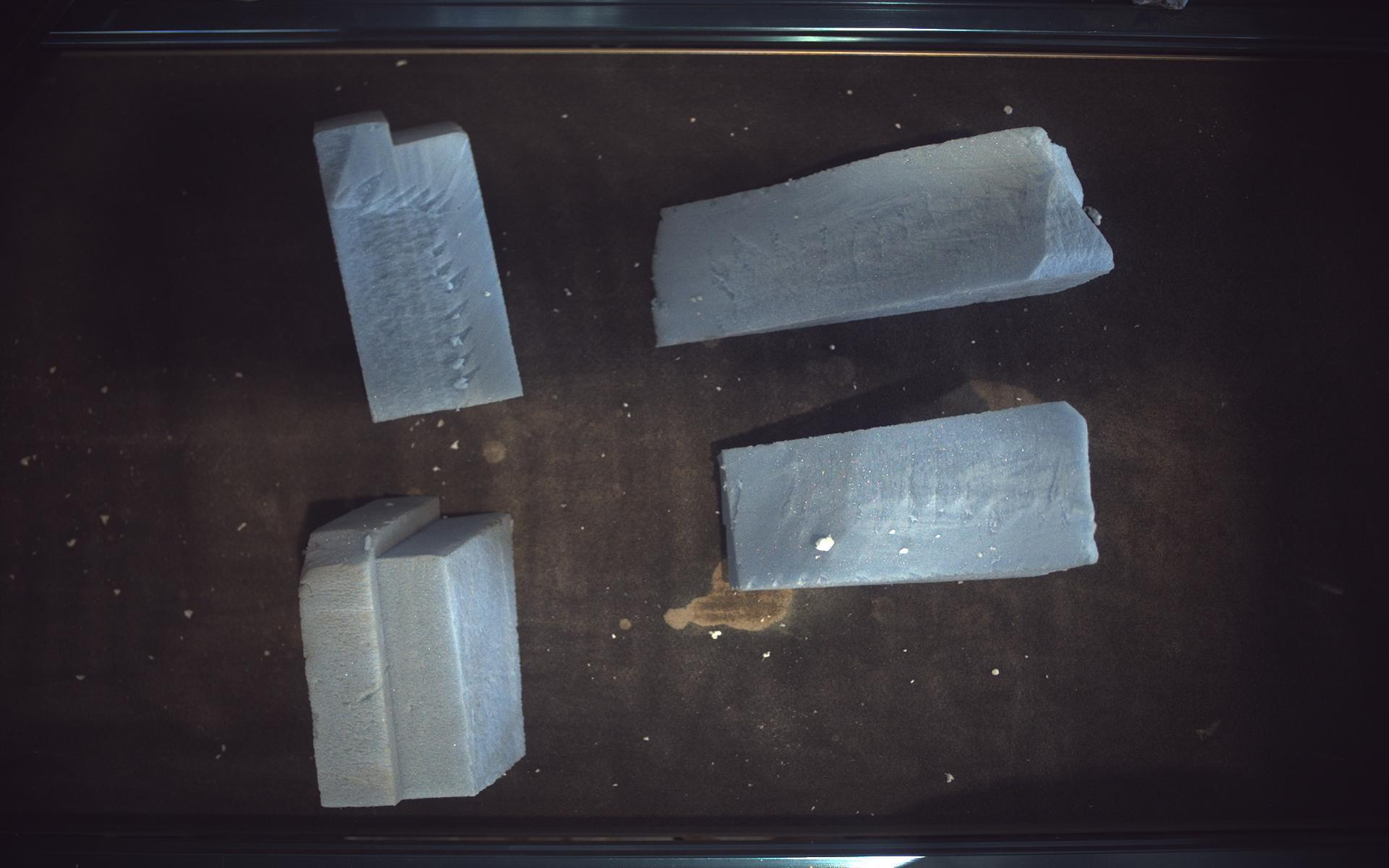foam: (654, 127, 1116, 346), (721, 401, 1100, 592), (299, 497, 525, 809), (313, 110, 523, 422)
